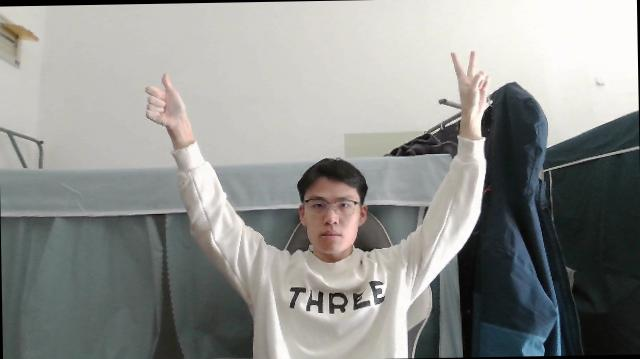two: (449, 46, 491, 114)
